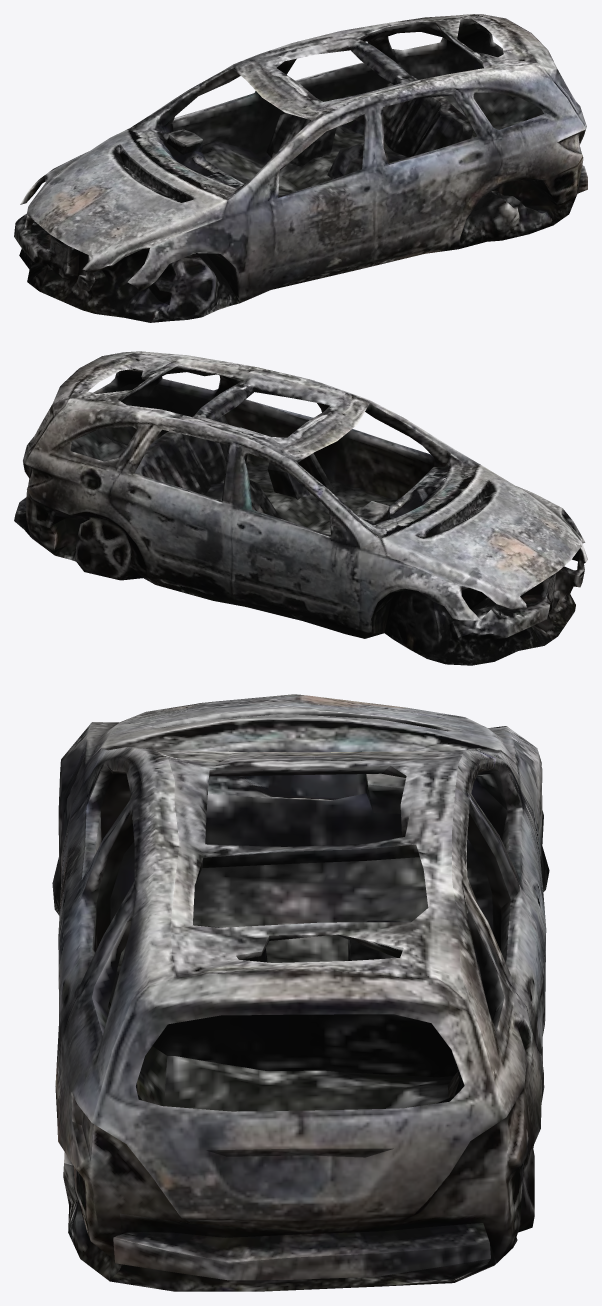
Rendered from veh_wreck_car_a.glb.
3 renders of one model, top to bottom at view 1: azimuth 30°, elevation 25°; view 2: azimuth 150°, elevation 25°; view 3: azimuth 270°, elevation 25°, orthographic. The views are drawn at different scales.
Visible parts, largest first — view 1: default001_Material #25_0; view 2: default001_Material #25_0; view 3: default001_Material #25_0.
Boxes of the visible parts, left/top/right/bottom form: default001_Material #25_0: left=14, top=14, right=587, bottom=322; default001_Material #25_0: left=14, top=351, right=587, bottom=665; default001_Material #25_0: left=52, top=694, right=549, bottom=1291.
Size of the model in its own units: 4.3 by 1.25 by 1.81.
1 material, 1 textured.
